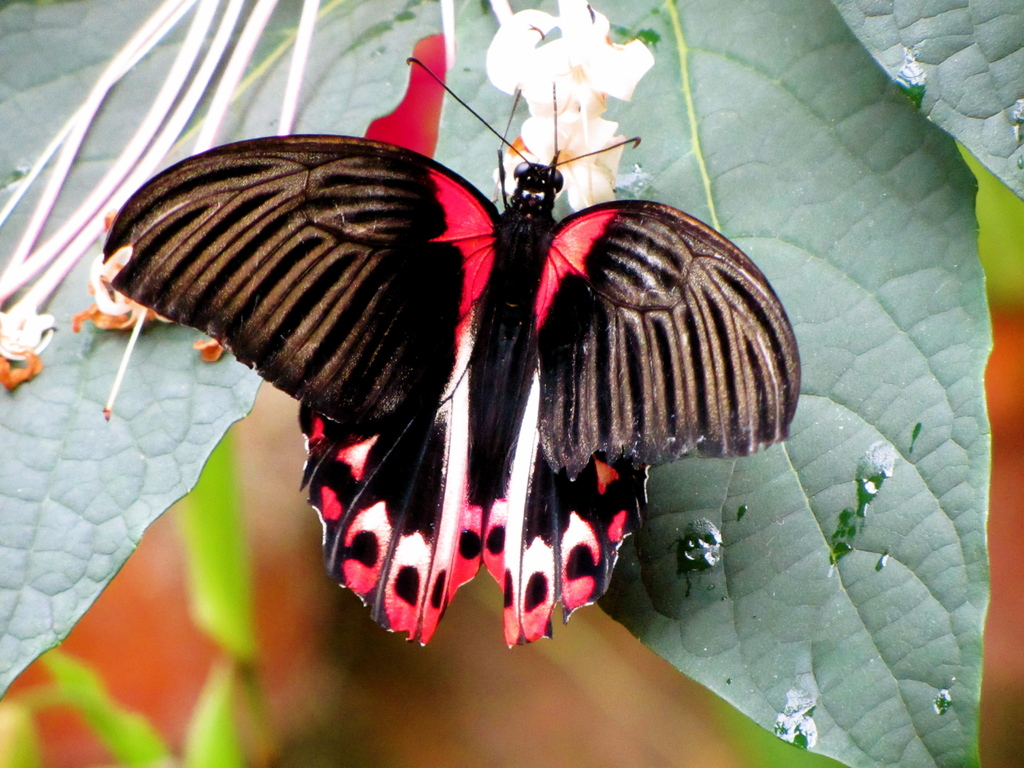Butterfly: (95, 97, 822, 643)
